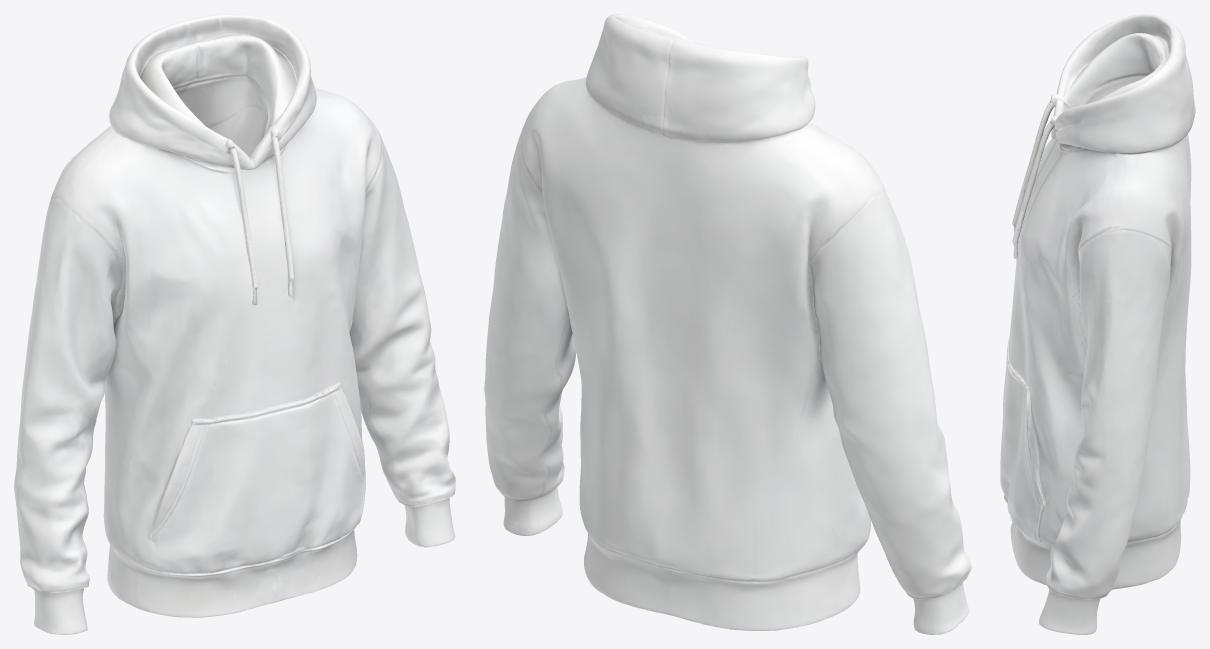
The model's file is base_basic_shaded.glb.
The picture shows the model from 3 angles, left to right: view 1: azimuth 30°, elevation 25°; view 2: azimuth 150°, elevation 25°; view 3: azimuth 270°, elevation 25°; orthographic projection. The views are drawn at different scales.
Visible parts, largest first — view 1: model; view 2: model; view 3: model.
Boxes of the visible parts, left/top/right/bottom form: model: left=14, top=14, right=455, bottom=634; model: left=484, top=14, right=971, bottom=634; model: left=1000, top=14, right=1195, bottom=634.
Bounding box in the file's own units: 0.8448 × 1 × 0.3519.
Materials: 1 (1 with a texture image).
